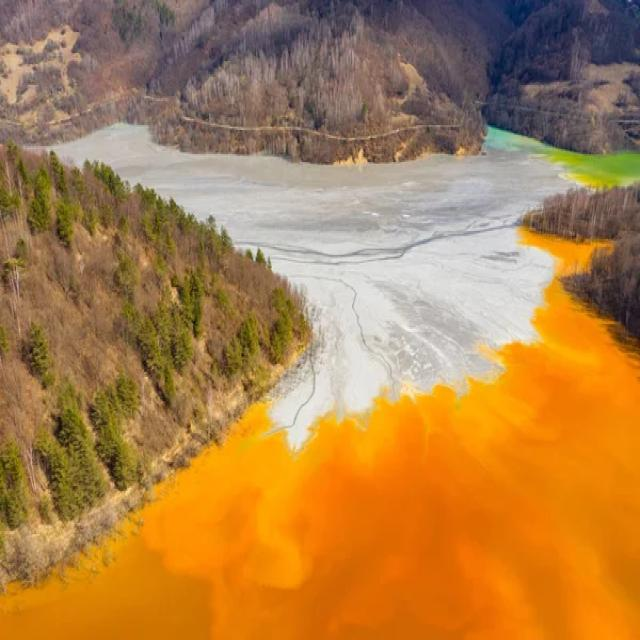yellow_boy: (0, 281, 639, 638), (490, 130, 639, 186), (519, 228, 608, 277)
